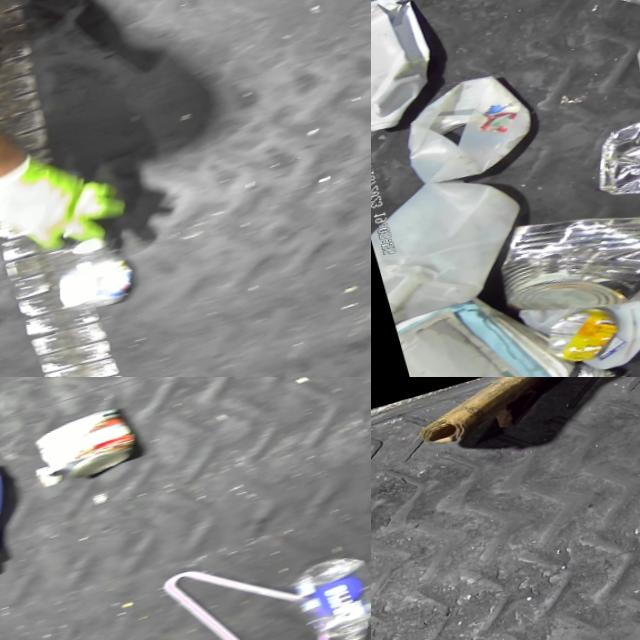can: (477, 176, 640, 338), (26, 405, 140, 491), (581, 91, 640, 215), (533, 301, 623, 373), (535, 360, 598, 377)
milk_jug: (371, 158, 541, 327), (386, 64, 543, 192), (508, 272, 640, 377), (371, 0, 449, 141)
plastic_bottle: (283, 551, 371, 640)
